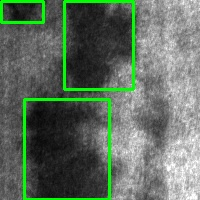patches: (24, 99, 109, 199), (64, 1, 133, 89), (1, 1, 43, 22)
